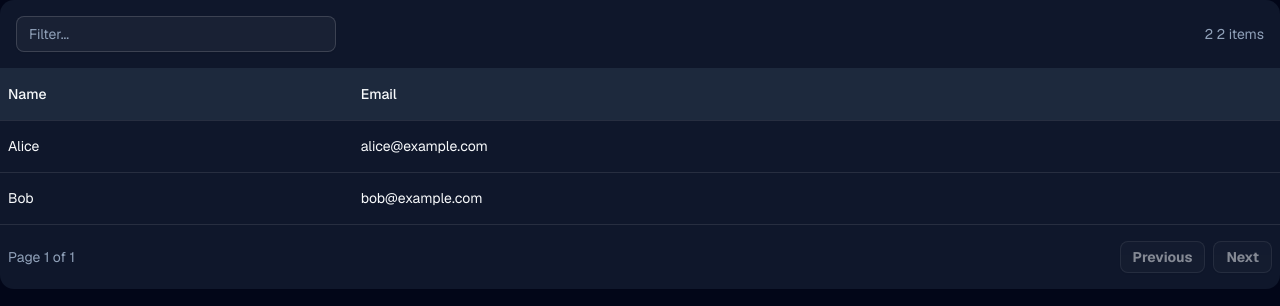
Scenario: DataTable › filters rows based on input
The width and height of the screenshot is (1280, 306).
Note: Apply filter
In the field with placeholder "Filter...": x=176, y=34 16,16 -> 336,52, type "alice"
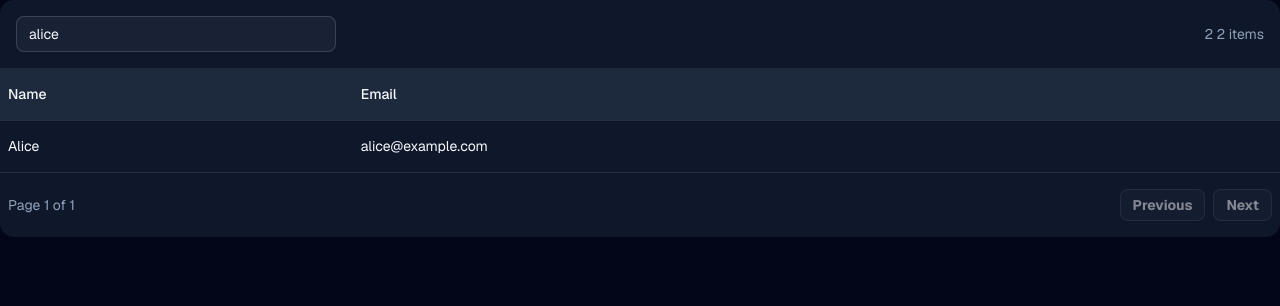
Expected: the text "Alice" is shown, 0,120 -> 353,172
Expected: the text "Bob" is gone
